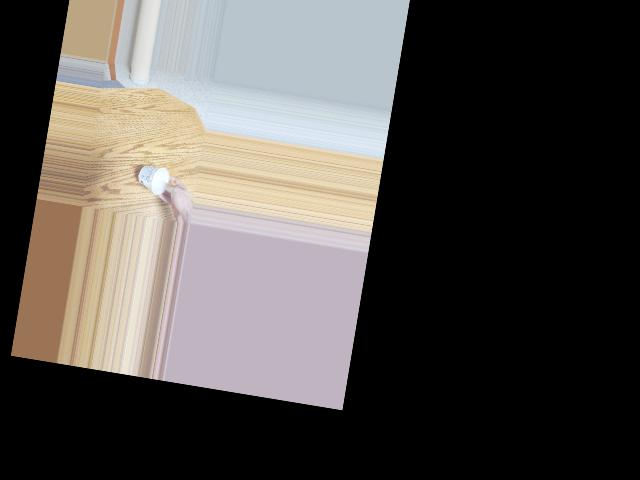cotage: (135, 160, 169, 195)
